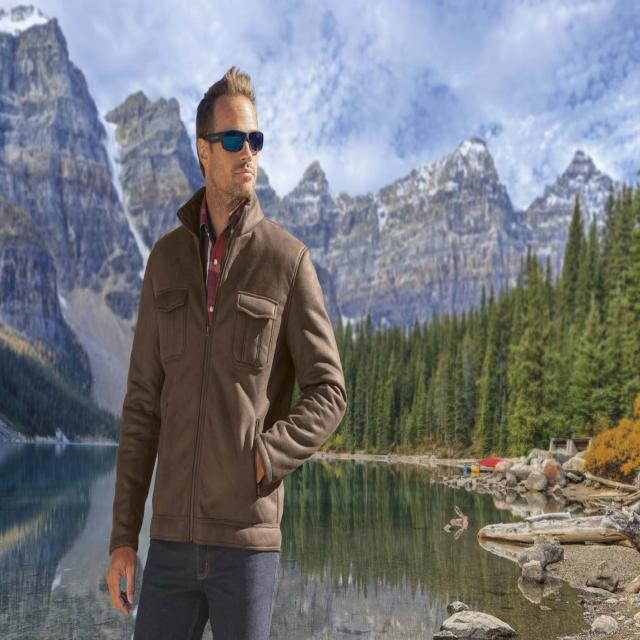human: (94, 65, 352, 640)
